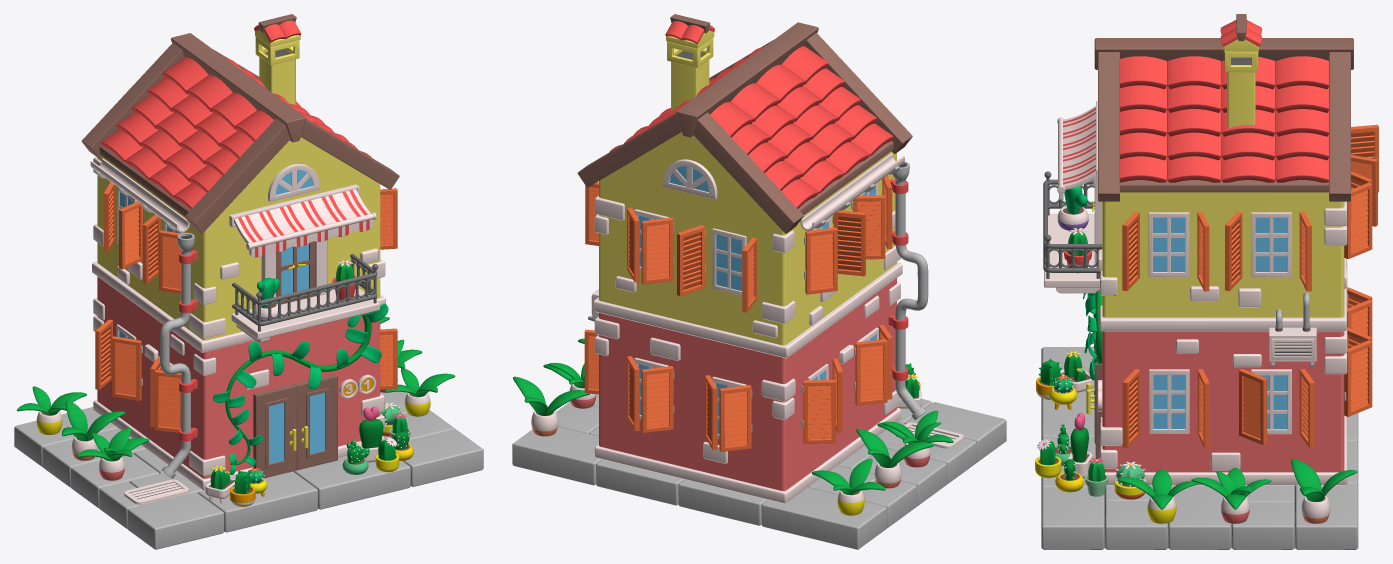
The model's file is City_Island_20.glb.
3 views of the same model, side by side, from view 1: azimuth 30°, elevation 25°; view 2: azimuth 150°, elevation 25°; view 3: azimuth 270°, elevation 25° (orthographic). The views are drawn at different scales.
Parts seen in each view (by area): view 1: City_20_House_1, City_20_Base_1, City_20_Ivy_1, City_20_Drain_Pipe_1, City_20_Gutter_1, City_20_Plant_5, City_20_Plant_4, City_20_Plant_3, City_20_Plant_6, City_20_Drain_Hatch_1, City_20_Cactus_6, City_20_Cactus_3 (+4 smaller); view 2: City_20_House_1, City_20_Base_1, City_20_Drain_Pipe_1, City_20_Gutter_1, City_20_Plant_6, City_20_Plant_4, City_20_Plant_2, City_20_Plant_5, City_20_Plant_1; view 3: City_20_House_1, City_20_Base_1, City_20_Outdoor_Air_Conditioning_1, City_20_Plant_1, City_20_Plant_2, City_20_Plant_3, City_20_Ivy_1, City_20_Cactus_5, City_20_Cactus_6, City_20_Cactus_9, City_20_Cactus_1, City_20_Cactus_3 (+6 smaller).
Part boxes in pixels (left/top/right/bottom): City_20_House_1: left=81, top=14, right=399, bottom=490; City_20_Base_1: left=14, top=391, right=483, bottom=549; City_20_Ivy_1: left=213, top=303, right=388, bottom=474; City_20_Drain_Pipe_1: left=160, top=232, right=197, bottom=478; City_20_Gutter_1: left=90, top=158, right=189, bottom=232; City_20_Plant_5: left=77, top=428, right=149, bottom=480; City_20_Plant_4: left=62, top=400, right=125, bottom=460; City_20_Plant_3: left=385, top=368, right=455, bottom=416; City_20_Plant_6: left=17, top=386, right=86, bottom=434; City_20_Drain_Hatch_1: left=124, top=479, right=188, bottom=505; City_20_Cactus_6: left=357, top=406, right=383, bottom=462; City_20_Cactus_3: left=205, top=466, right=235, bottom=503; City_20_House_1: left=577, top=14, right=912, bottom=503; City_20_Base_1: left=512, top=394, right=1006, bottom=549; City_20_Drain_Pipe_1: left=888, top=161, right=928, bottom=420; City_20_Gutter_1: left=800, top=153, right=904, bottom=231; City_20_Plant_6: left=811, top=458, right=885, bottom=515; City_20_Plant_4: left=856, top=429, right=934, bottom=488; City_20_Plant_2: left=513, top=376, right=590, bottom=436; City_20_Plant_5: left=877, top=410, right=953, bottom=467; City_20_Plant_1: left=543, top=362, right=596, bottom=408; City_20_House_1: left=1043, top=14, right=1378, bottom=485; City_20_Base_1: left=1041, top=347, right=1358, bottom=549; City_20_Outdoor_Air_Conditioning_1: left=1269, top=292, right=1316, bottom=367; City_20_Plant_1: left=1191, top=467, right=1271, bottom=523; City_20_Plant_2: left=1291, top=459, right=1357, bottom=523; City_20_Plant_3: left=1118, top=469, right=1198, bottom=523; City_20_Ivy_1: left=1083, top=290, right=1102, bottom=394; City_20_Cactus_5: left=1057, top=186, right=1088, bottom=230; City_20_Cactus_6: left=1067, top=412, right=1092, bottom=478; City_20_Cactus_9: left=1114, top=461, right=1147, bottom=499; City_20_Cactus_1: left=1035, top=439, right=1061, bottom=478; City_20_Cactus_3: left=1060, top=351, right=1094, bottom=397.
Bounding box in the file's own units: 10.9 × 11.75 × 7.9.
Materials: 26 (26 with a texture image).
